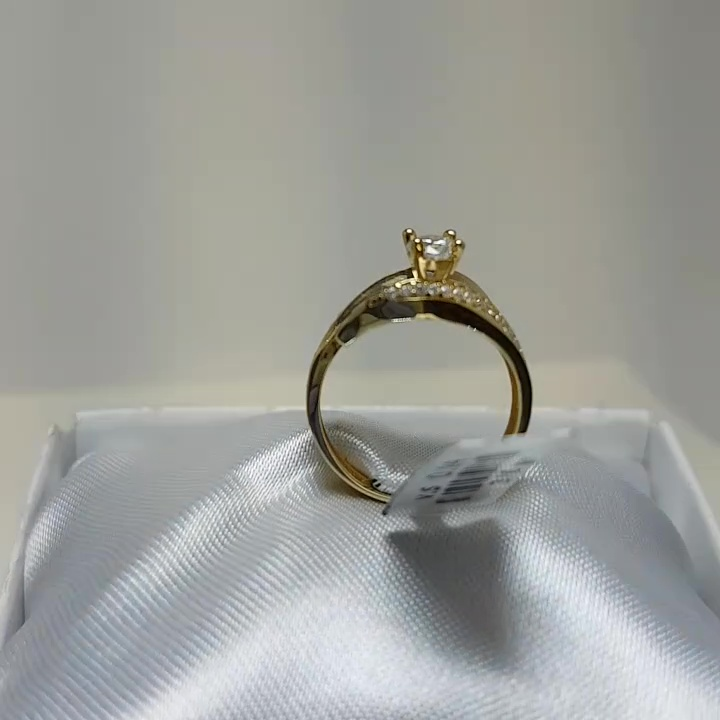Ring 6: (262, 224, 550, 546)
